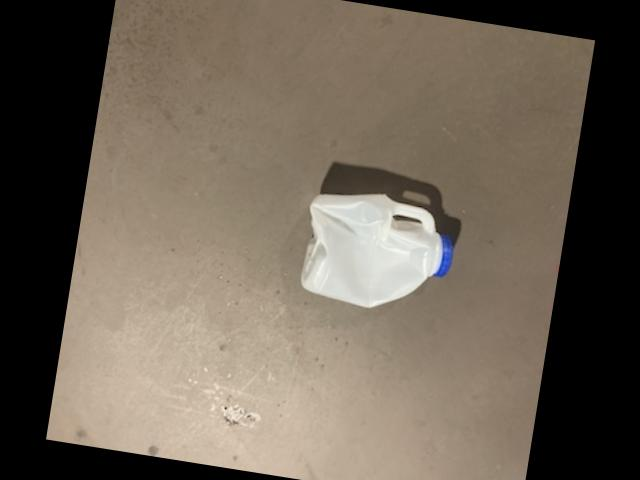plastic: (303, 192, 455, 304)
